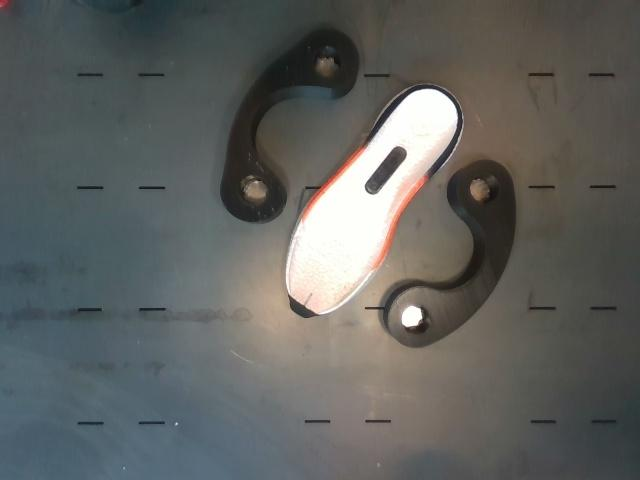shoes: (287, 88, 457, 318)
